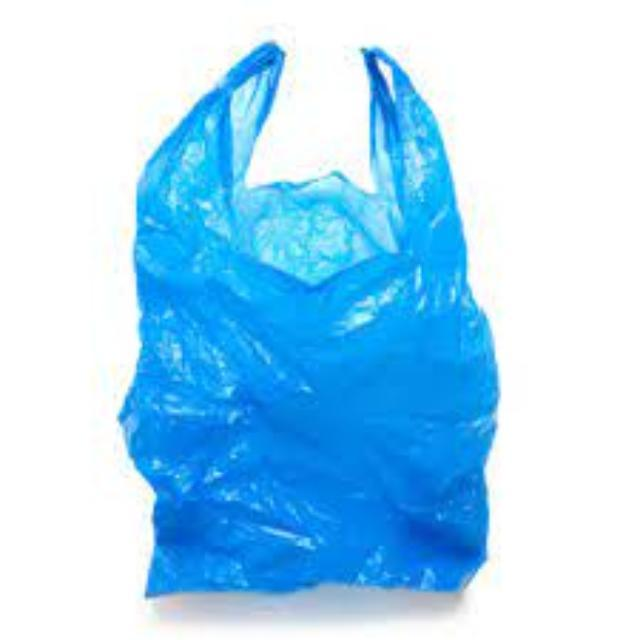Bolsa-de-nilon: (120, 44, 499, 594)
